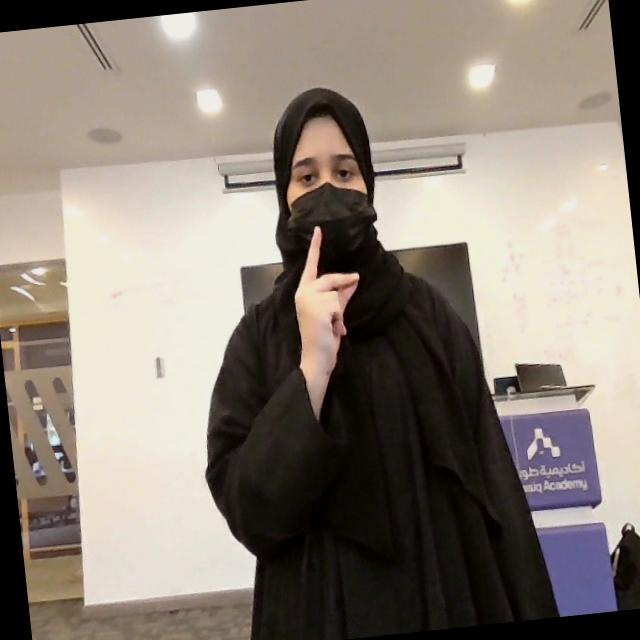emergency: (280, 220, 370, 392)
